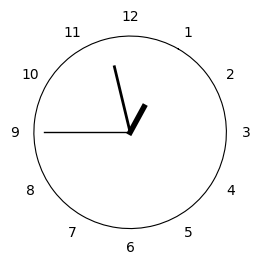12: (122, 10, 139, 23)
circle: (33, 36, 227, 229)
hours: (128, 104, 147, 136)
minutes: (112, 65, 131, 129)
seconds: (43, 130, 129, 134)
